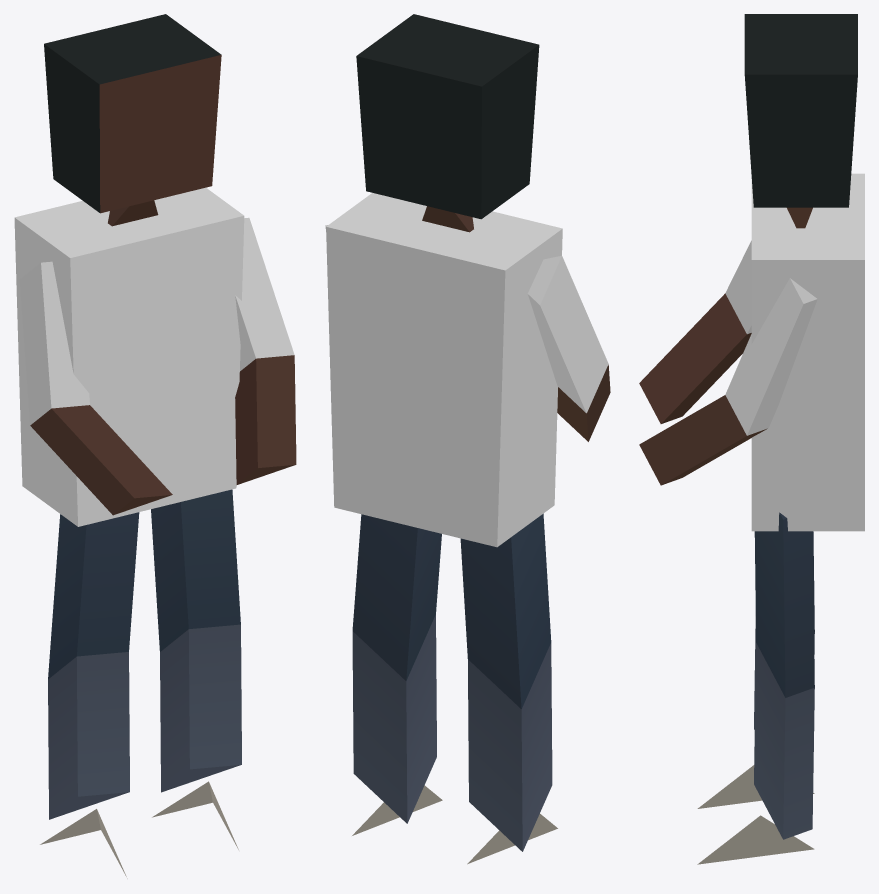
Rendered from fan-10.glb.
The picture shows the model from 3 angles, left to right: view 1: azimuth 30°, elevation 25°; view 2: azimuth 150°, elevation 25°; view 3: azimuth 270°, elevation 25°; orthographic projection. The views are drawn at different scales.
Visible parts, largest first — view 1: fan-10; view 2: fan-10; view 3: fan-10.
Boxes of the visible parts, box(x1,y1,x2,y2) form: fan-10: box(14, 14, 296, 878); fan-10: box(325, 14, 610, 864); fan-10: box(639, 14, 864, 864).
Size of the model in its own units: 0.6575 by 1.93 by 0.4978.
